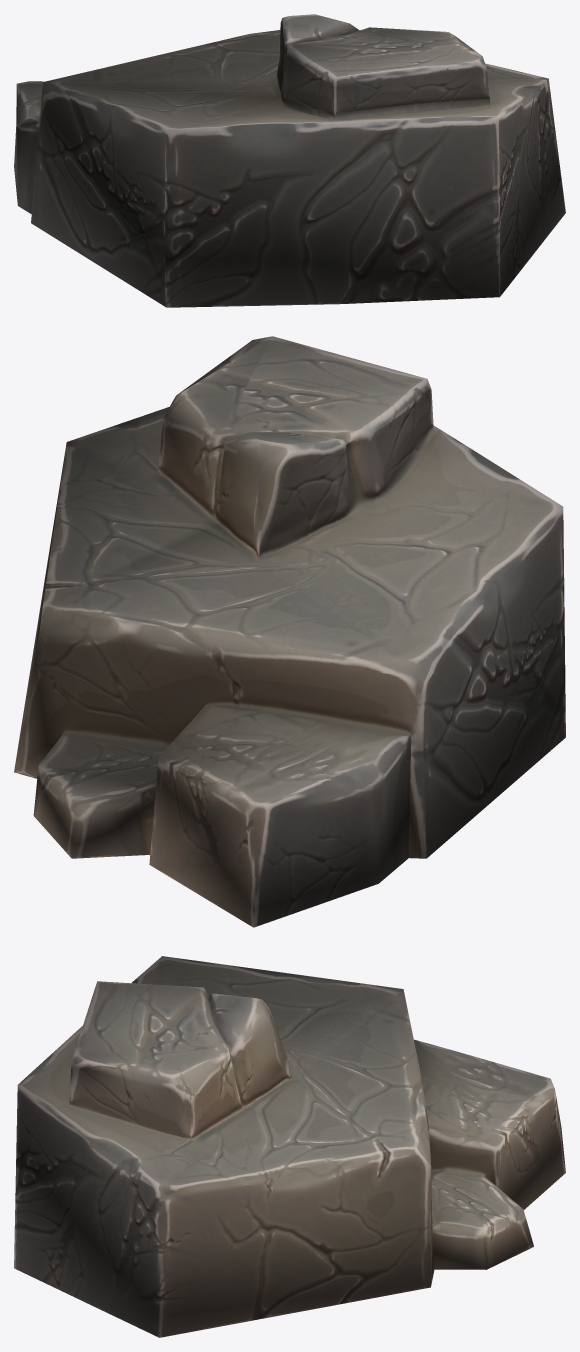
Rendered from ROK0110030.fbx.
3 views of the same model, one above another, from view 1: azimuth 30°, elevation 25°; view 2: azimuth 150°, elevation 25°; view 3: azimuth 270°, elevation 25° (orthographic). The views are drawn at different scales.
Parts seen in each view (by area): view 1: smROK0110030; view 2: smROK0110030; view 3: smROK0110030.
Boxes of the visible parts, bbox=[...] form: smROK0110030: bbox=[14, 14, 565, 307]; smROK0110030: bbox=[14, 336, 565, 927]; smROK0110030: bbox=[14, 956, 565, 1337].
Size of the model in its own units: 143 by 78.3 by 162.
Materials: 1 (1 with a texture image).
